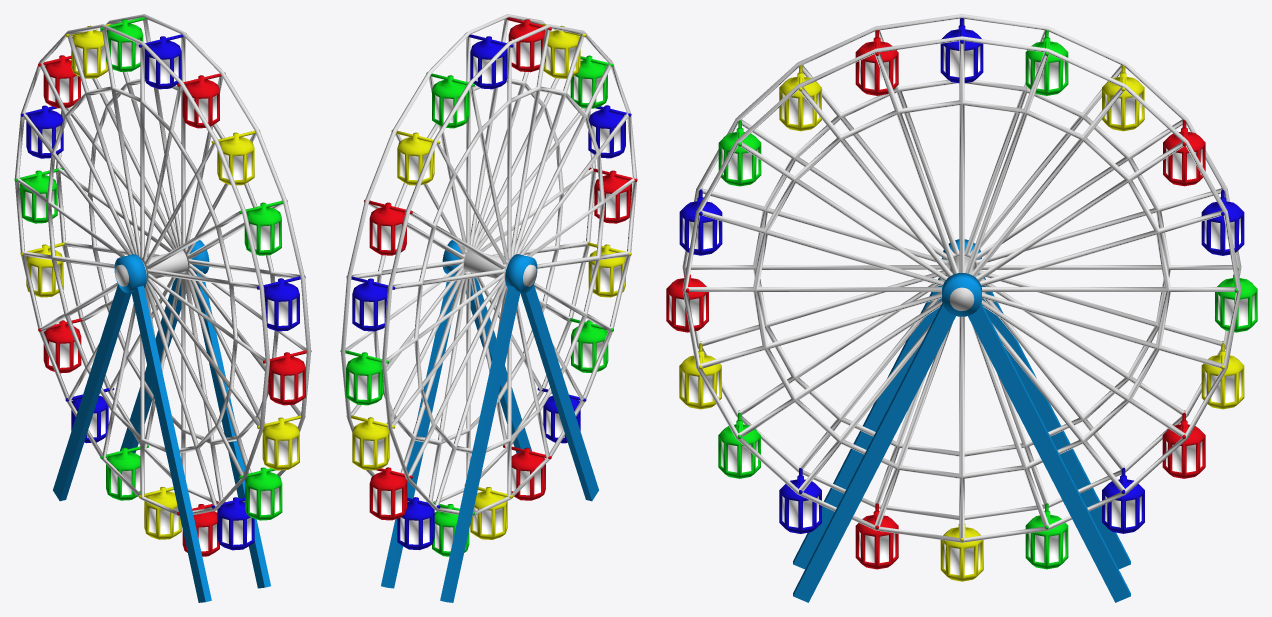
The model's file is Ferris Wheel.glb.
3 views of the same model, side by side, from view 1: azimuth 30°, elevation 25°; view 2: azimuth 150°, elevation 25°; view 3: azimuth 270°, elevation 25° (orthographic). The views are drawn at different scales.
Visible parts, largest first — view 1: Circle, Cube, Cylinder.010, Cylinder.009, Cylinder.011, Cylinder.008, Cylinder.007, Cylinder.012, Cylinder.006, Cylinder.004, Cylinder.005, Cylinder.014 (+11 smaller); view 2: Circle, Cube, Cylinder.018, Cylinder.017, Cylinder.019, Cylinder.020, Cylinder.001, Cylinder.016, Cylinder.002, Cylinder.004, Cylinder.003, Cylinder.014 (+11 smaller); view 3: Circle, Cube, Cylinder.013, Cylinder.015, Cylinder.014, Cylinder.016, Cylinder.017, Cylinder.012, Cylinder.011, Cylinder.018, Cylinder.010, Cylinder.004 (+11 smaller).
Boxes of the visible parts, x1,y1,x2,y2 form: Circle: (14, 14, 311, 516); Cube: (53, 271, 270, 602); Cylinder.010: (257, 415, 305, 470); Cylinder.009: (262, 350, 311, 405); Cylinder.011: (239, 467, 282, 520); Cylinder.008: (256, 275, 305, 331); Cylinder.007: (239, 200, 287, 255); Cylinder.012: (211, 497, 254, 550); Cylinder.006: (211, 130, 260, 185); Cylinder.004: (138, 34, 183, 89); Cylinder.005: (177, 73, 225, 128); Cylinder.014: (138, 485, 187, 539); Circle: (341, 14, 637, 516); Cube: (381, 271, 598, 602); Cylinder.018: (346, 415, 395, 470); Cylinder.017: (369, 467, 412, 520); Cylinder.019: (340, 350, 389, 405); Cylinder.020: (346, 276, 395, 331); Cylinder.001: (364, 200, 412, 255); Cylinder.016: (397, 497, 440, 550); Cylinder.002: (391, 130, 440, 185); Cylinder.004: (468, 34, 513, 89); Cylinder.003: (426, 73, 474, 128); Cylinder.014: (464, 484, 513, 539); Circle: (682, 14, 1241, 542); Cube: (793, 275, 1130, 602); Cylinder.013: (855, 503, 898, 569); Cylinder.015: (1025, 503, 1068, 569); Cylinder.014: (940, 523, 983, 581); Cylinder.016: (1102, 467, 1144, 533); Cylinder.017: (1162, 410, 1205, 478); Cylinder.012: (779, 468, 821, 533); Cylinder.011: (718, 410, 760, 478); Cylinder.018: (1201, 341, 1244, 409); Cylinder.010: (679, 341, 721, 409); Cylinder.004: (940, 18, 983, 83).
Bounding box in the file's own units: 0.3793 × 2.23 × 2.13.
